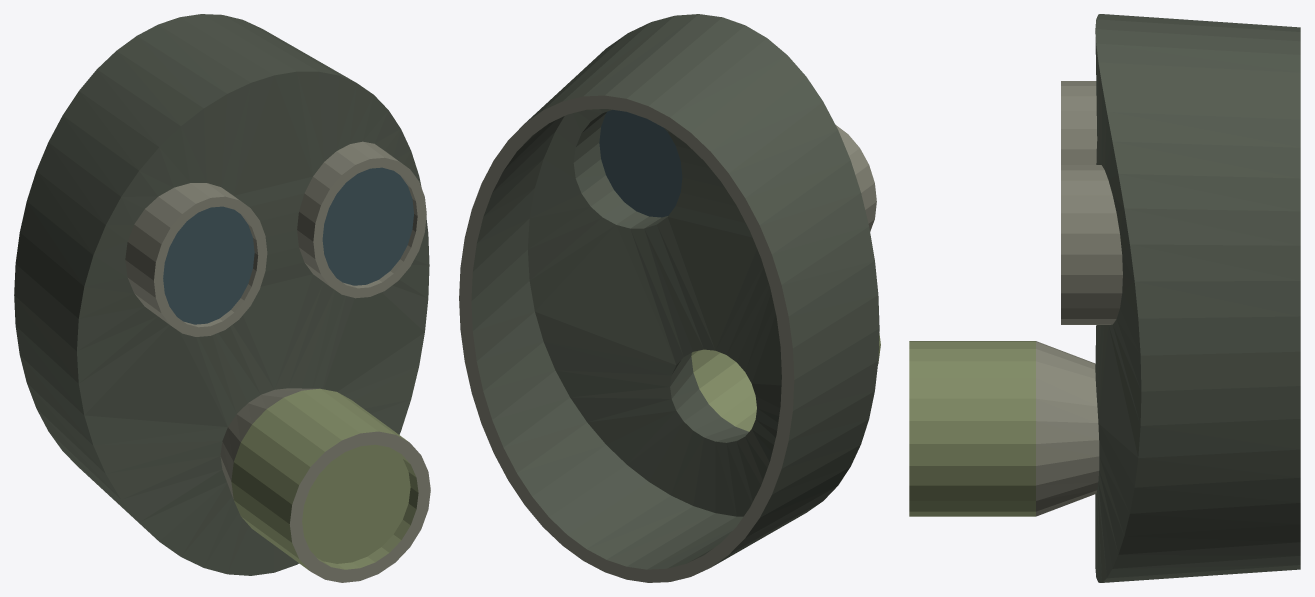
File: NEW_RECOVERY_060_LOD0.glb
3 views of the same model, side by side, from view 1: azimuth 30°, elevation 25°; view 2: azimuth 150°, elevation 25°; view 3: azimuth 270°, elevation 25° (orthographic). The views are drawn at different scales.
Parts seen in each view (by area): view 1: Gas_mask; view 2: Gas_mask; view 3: Gas_mask.
Boxes of the visible parts, x1,y1,x2,y2 form: Gas_mask: (14, 14, 430, 582); Gas_mask: (459, 14, 880, 582); Gas_mask: (909, 14, 1300, 582).
Bounding box in the file's own units: 0.23 × 0.31 × 0.204.
